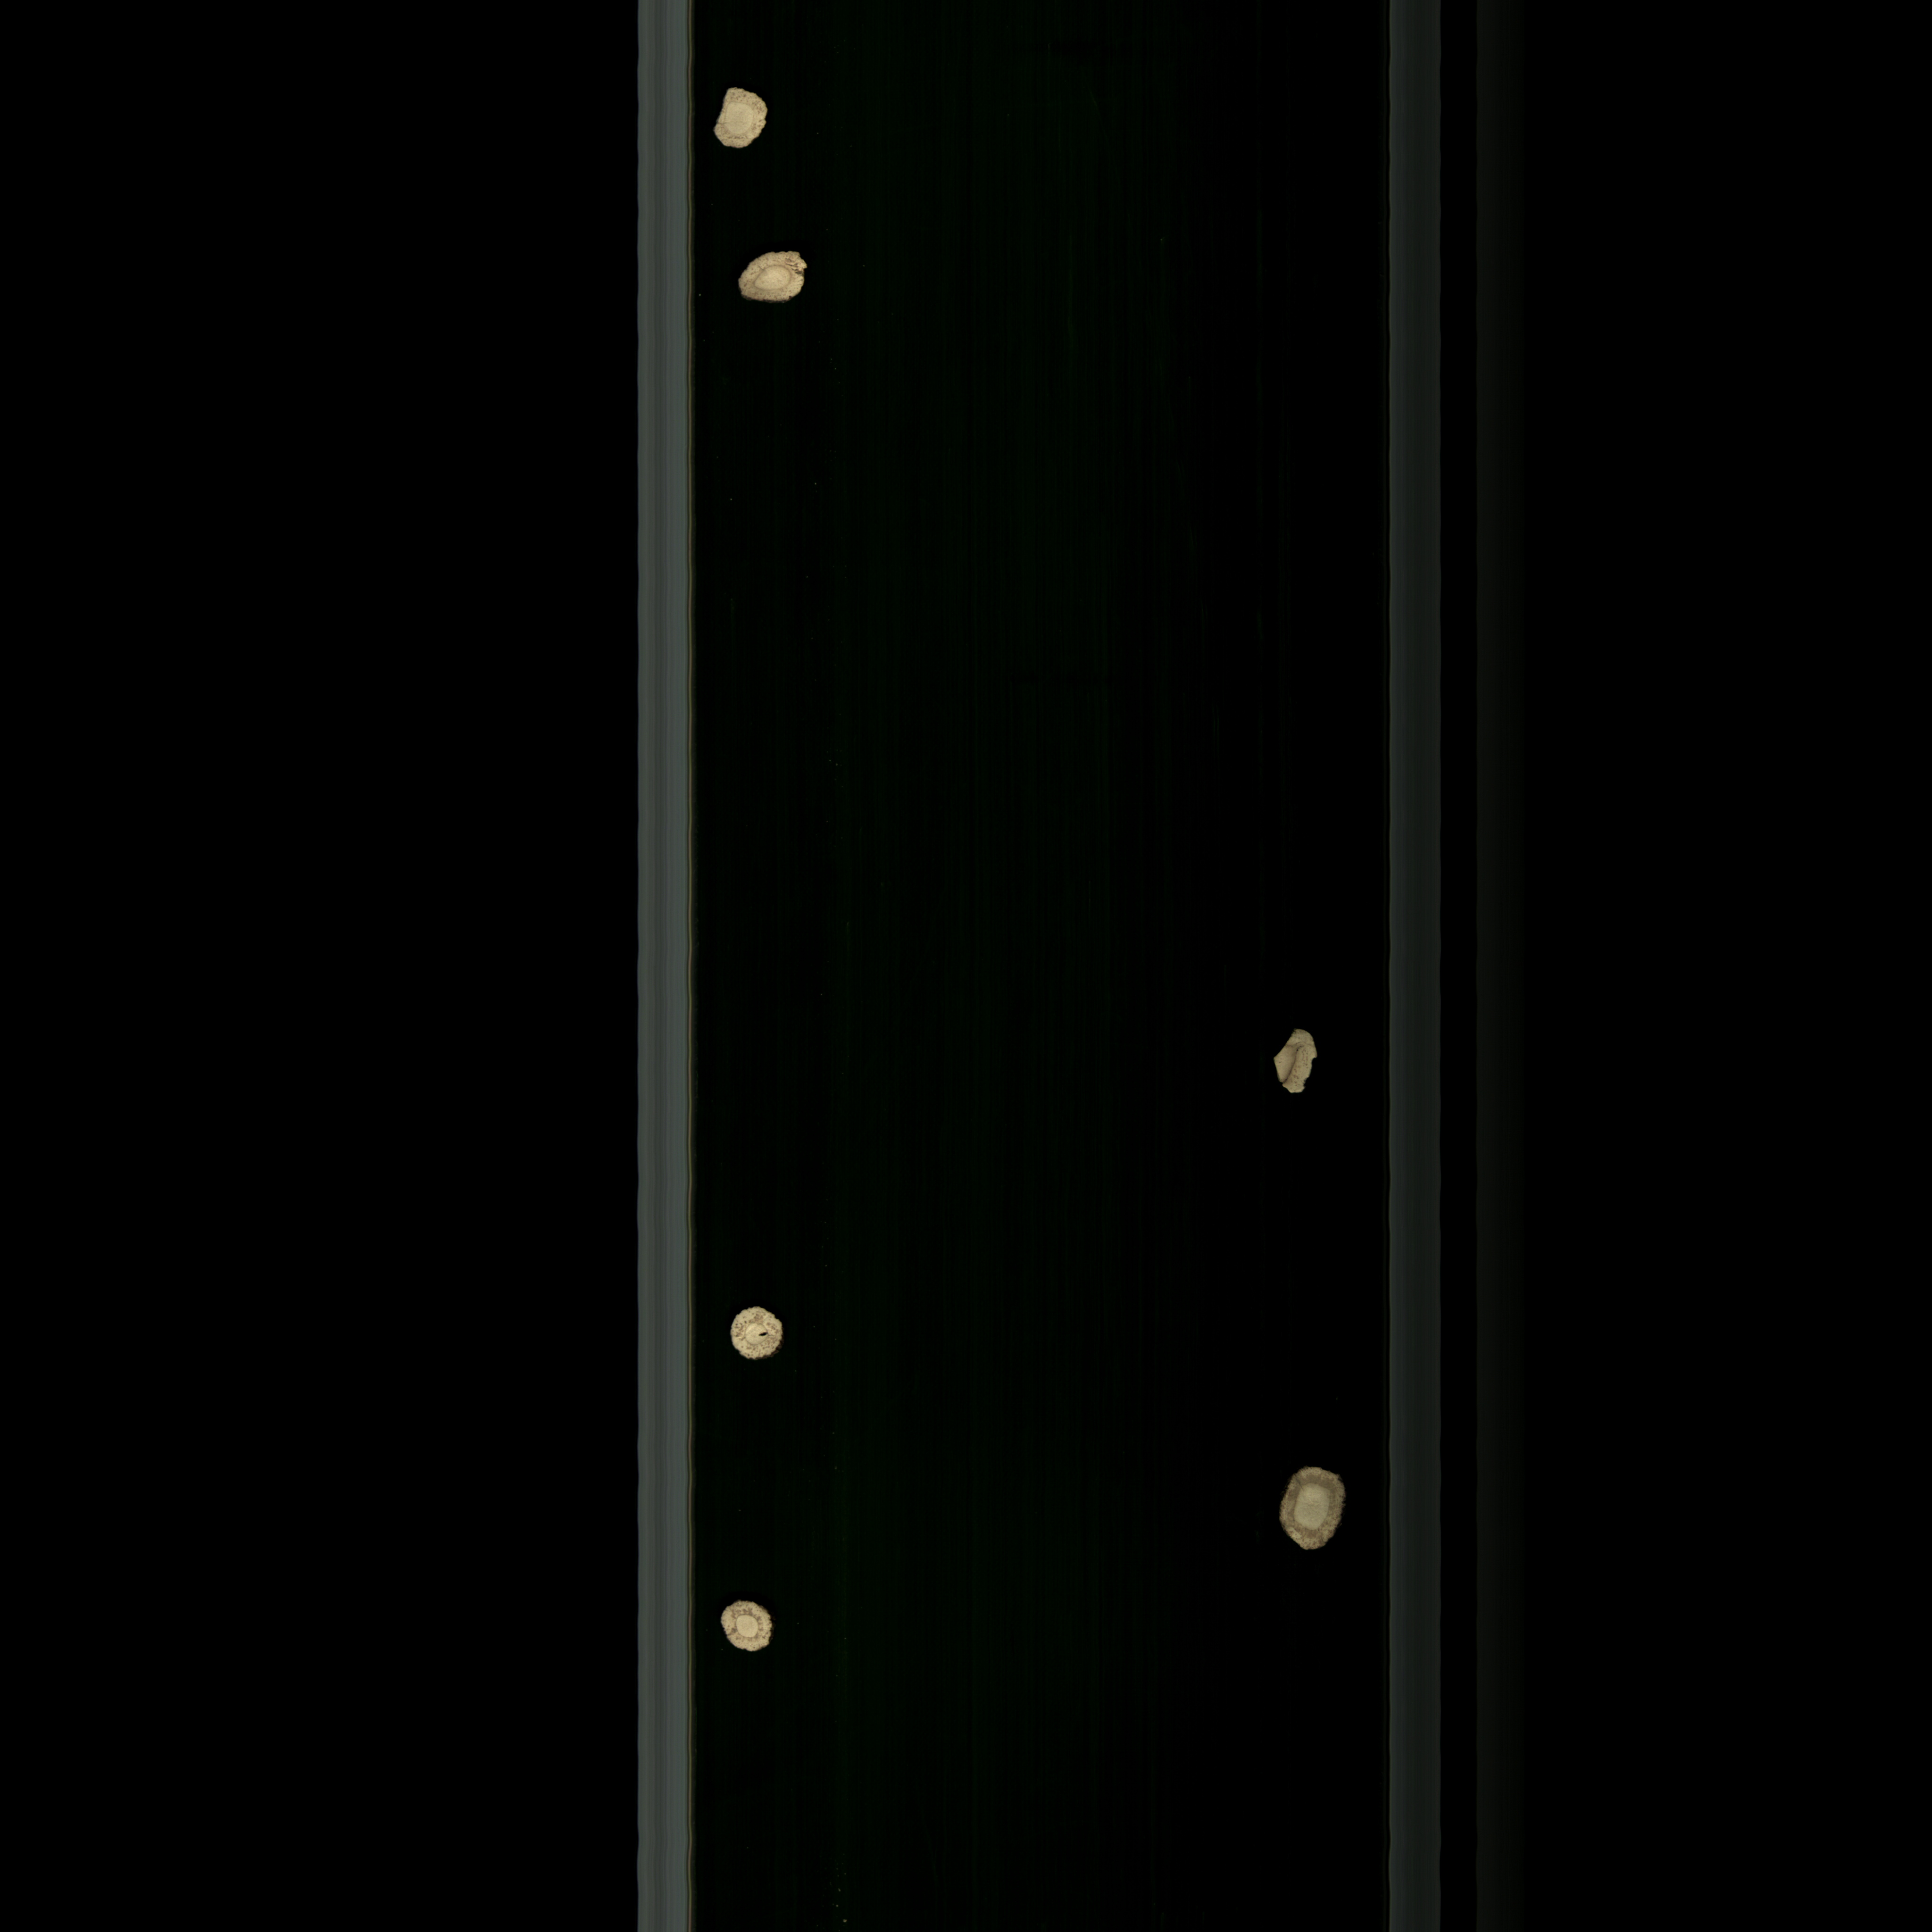debris: (732, 234, 819, 317), (709, 80, 780, 168)
hole: (717, 1297, 807, 1380)
moldy: (1276, 1451, 1353, 1571), (1260, 1012, 1330, 1116), (713, 1591, 793, 1667)
